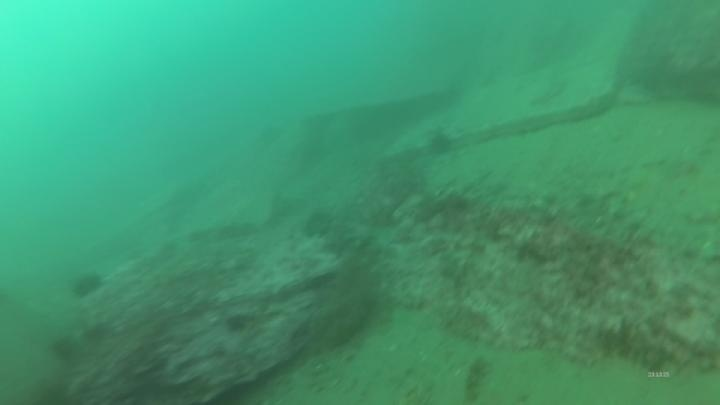echinus: (68, 269, 106, 302), (47, 332, 81, 364), (425, 129, 457, 159)
holothurian: (461, 354, 494, 405)
